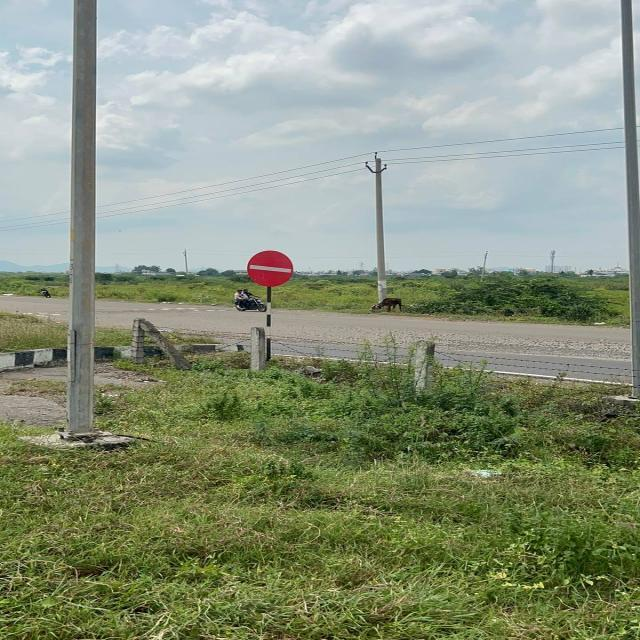no entry: (249, 252, 294, 288)
